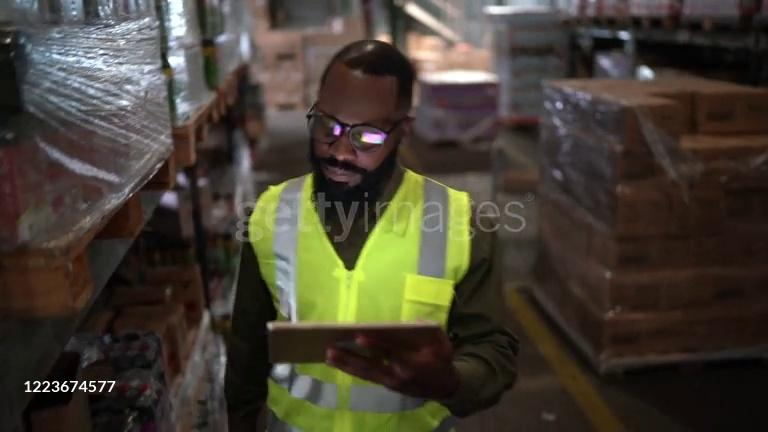person: (228, 40, 521, 432)
